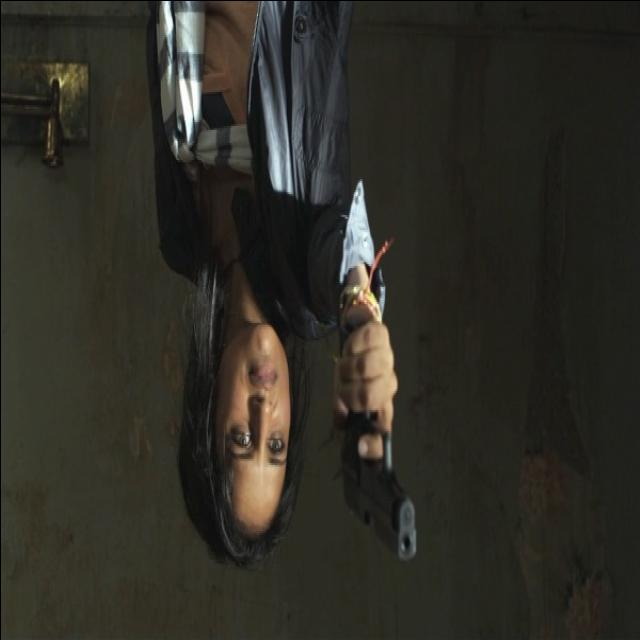weapons: (328, 238, 428, 584)
